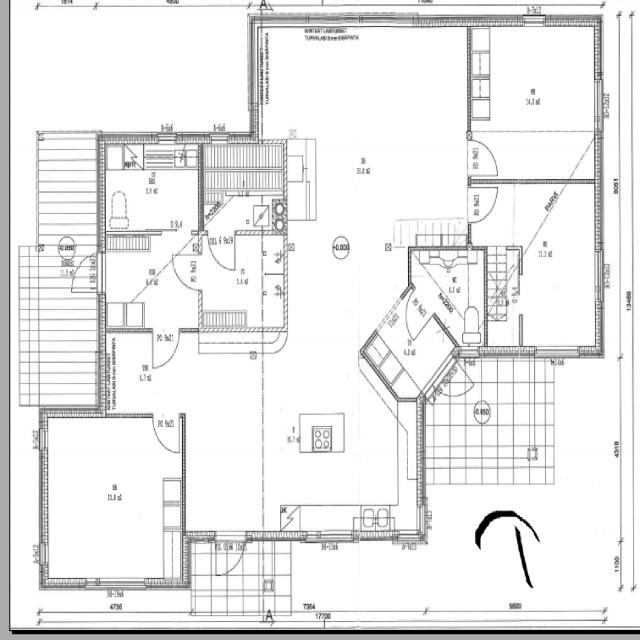door: (430, 356, 478, 419), (66, 252, 105, 292), (215, 531, 245, 581), (208, 231, 235, 271), (163, 196, 190, 236), (467, 140, 497, 175), (172, 255, 202, 290), (136, 328, 162, 367), (130, 414, 156, 452), (508, 258, 534, 288), (422, 382, 442, 410), (478, 246, 497, 275)
